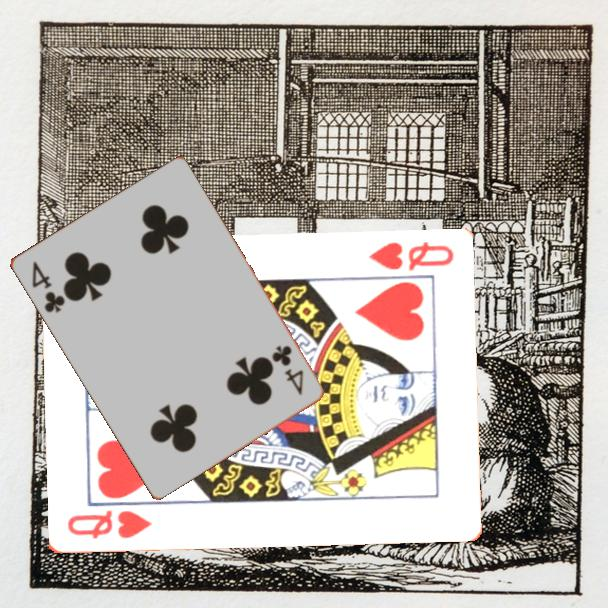c04: (28, 257, 68, 316), (268, 342, 306, 398)
h12: (64, 507, 155, 543), (365, 239, 456, 274)
